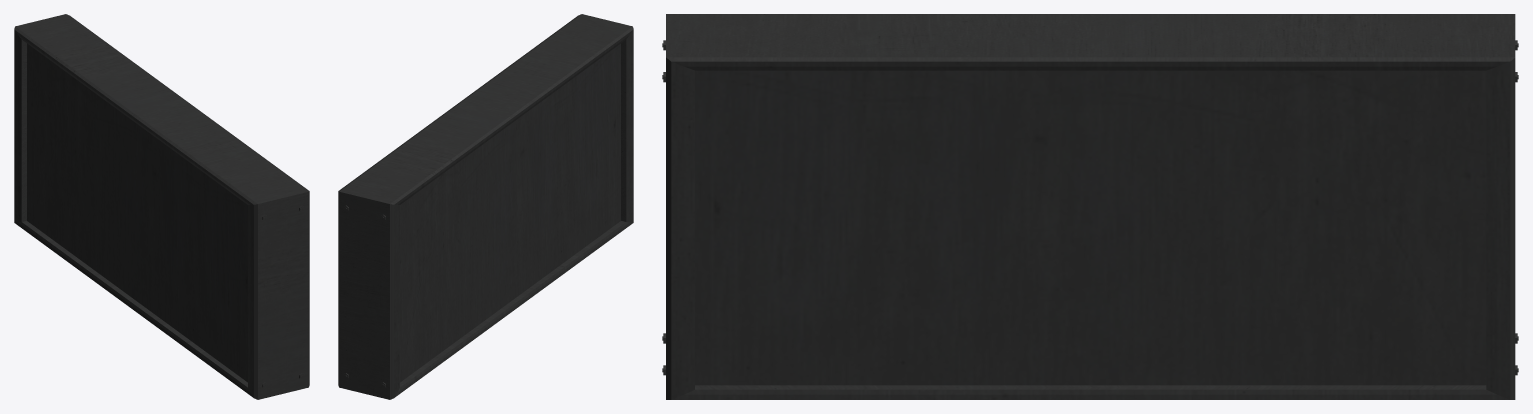
3 views of the same model, side by side, from view 1: azimuth 30°, elevation 25°; view 2: azimuth 150°, elevation 25°; view 3: azimuth 270°, elevation 25° (orthographic). The views are drawn at different scales.
Visible parts, largest first — view 1: theatresign; view 2: theatresign; view 3: theatresign.
Part boxes in pixels (left/top/right/bottom): theatresign: left=14, top=14, right=309, bottom=399; theatresign: left=338, top=14, right=633, bottom=399; theatresign: left=662, top=14, right=1518, bottom=399.
Size of the model in its own units: 35.73 by 120 by 271.
